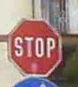stop: (9, 16, 61, 76)
